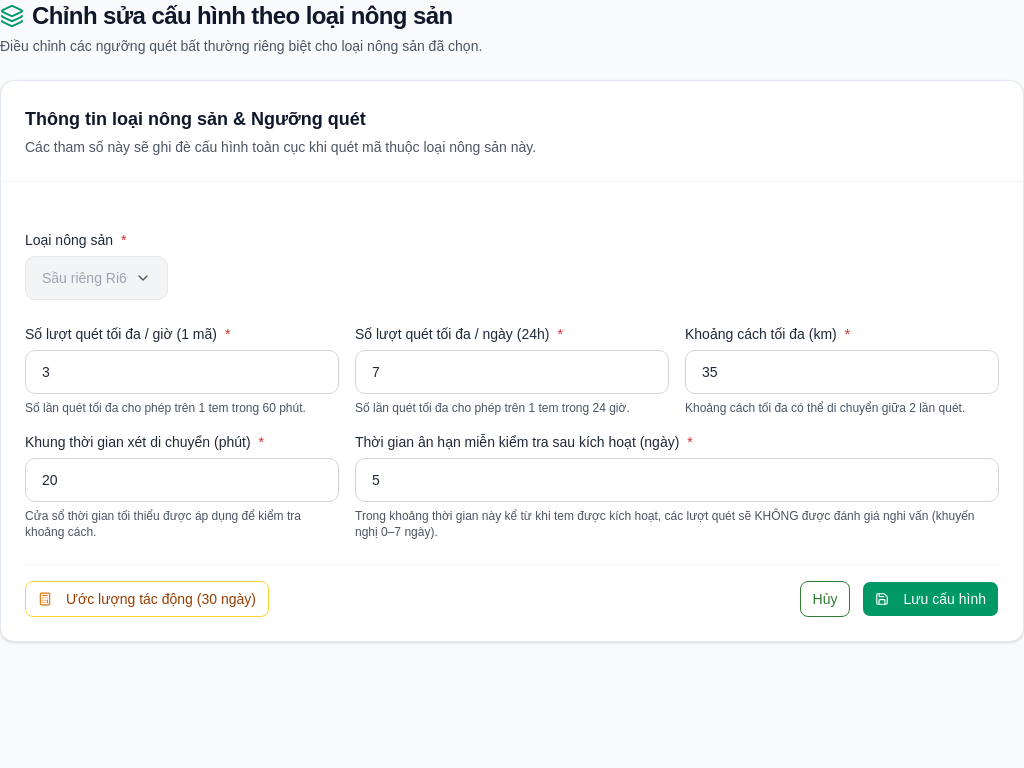
Test: CategoryOverridePage (NCL-08-CN-014) › thực hiện ước lượng tác động thành công khi click nút Ước lượng
Click the button "Ước lượng tác động (30 ngày)".
click(147, 599)  # box x1=25 y1=581 x2=269 y2=617
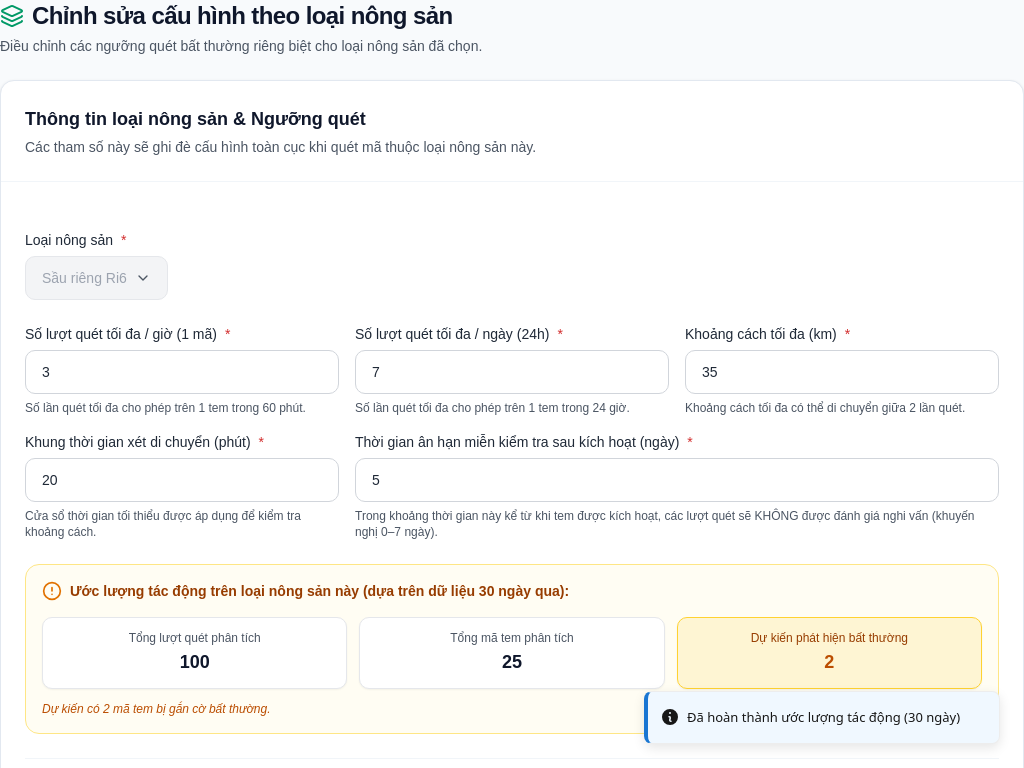
Check: the text "Dự kiến có 2 mã tem bị gắn cờ bất thường." is shown, box x1=42 y1=702 x2=270 y2=716
